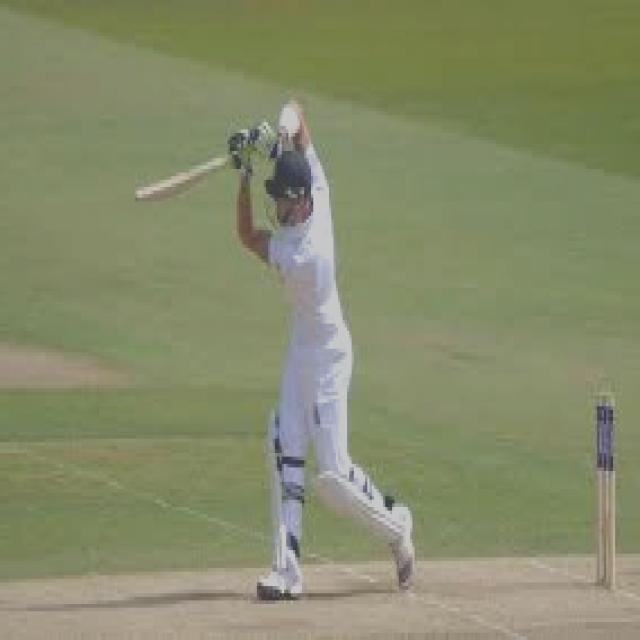bat: (110, 155, 240, 219)
toe: (127, 189, 149, 207)
